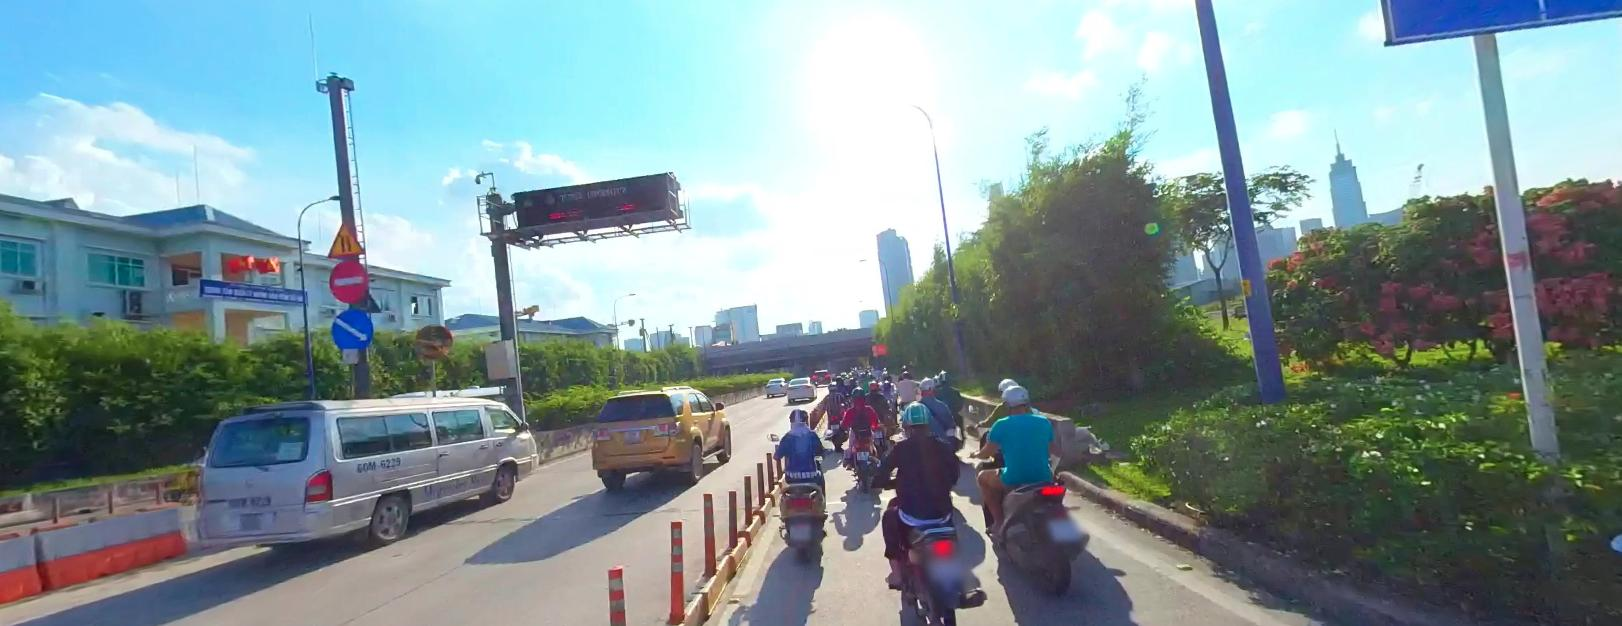Cam nguoc chieu: (327, 259, 369, 302)
Hieu lenh: (329, 306, 374, 350)
Nguy hiem: (326, 218, 367, 257)
